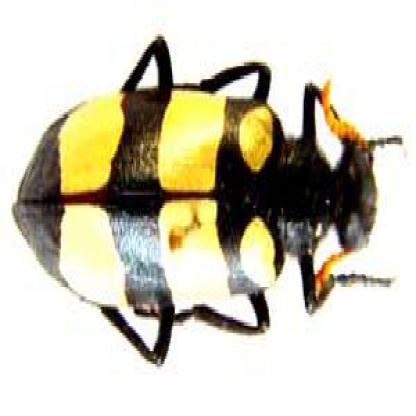beetle: (5, 33, 404, 367)
